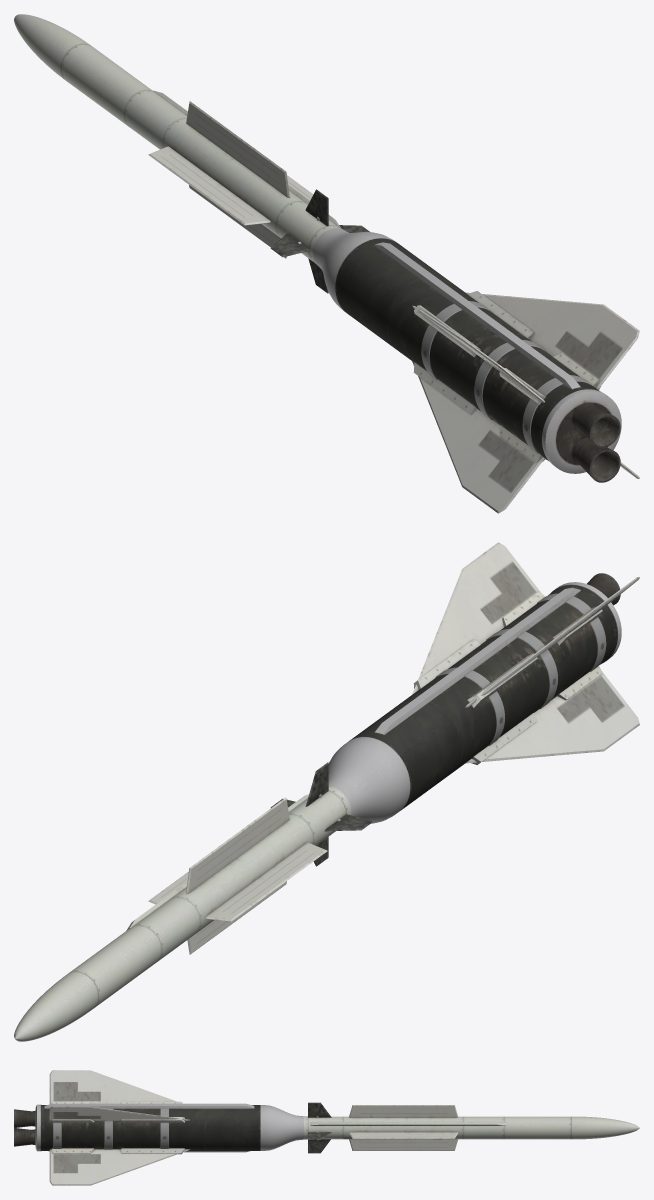
The model's file is aster.glb.
3 renders of one model, top to bottom at view 1: azimuth 30°, elevation 25°; view 2: azimuth 150°, elevation 25°; view 3: azimuth 270°, elevation 25°, orthographic. The views are drawn at different scales.
Visible parts, largest first — view 1: body|AST_B, body|AST_F; view 2: body|AST_B, body|AST_F; view 3: body|AST_B, body|AST_F.
Boxes of the visible parts, x1=… form: body|AST_B: x1=14, y1=14, x2=621, y2=482; body|AST_F: x1=148, y1=101, x2=639, y2=513; body|AST_B: x1=14, y1=573, x2=621, y2=1041; body|AST_F: x1=148, y1=542, x2=639, y2=954; body|AST_B: x1=14, y1=1103, x2=639, y2=1152; body|AST_F: x1=49, y1=1070, x2=458, y2=1185.
Bounding box in the file's own units: 0.6789 × 0.6789 × 4.9.
Materials: 2 (2 with a texture image).
